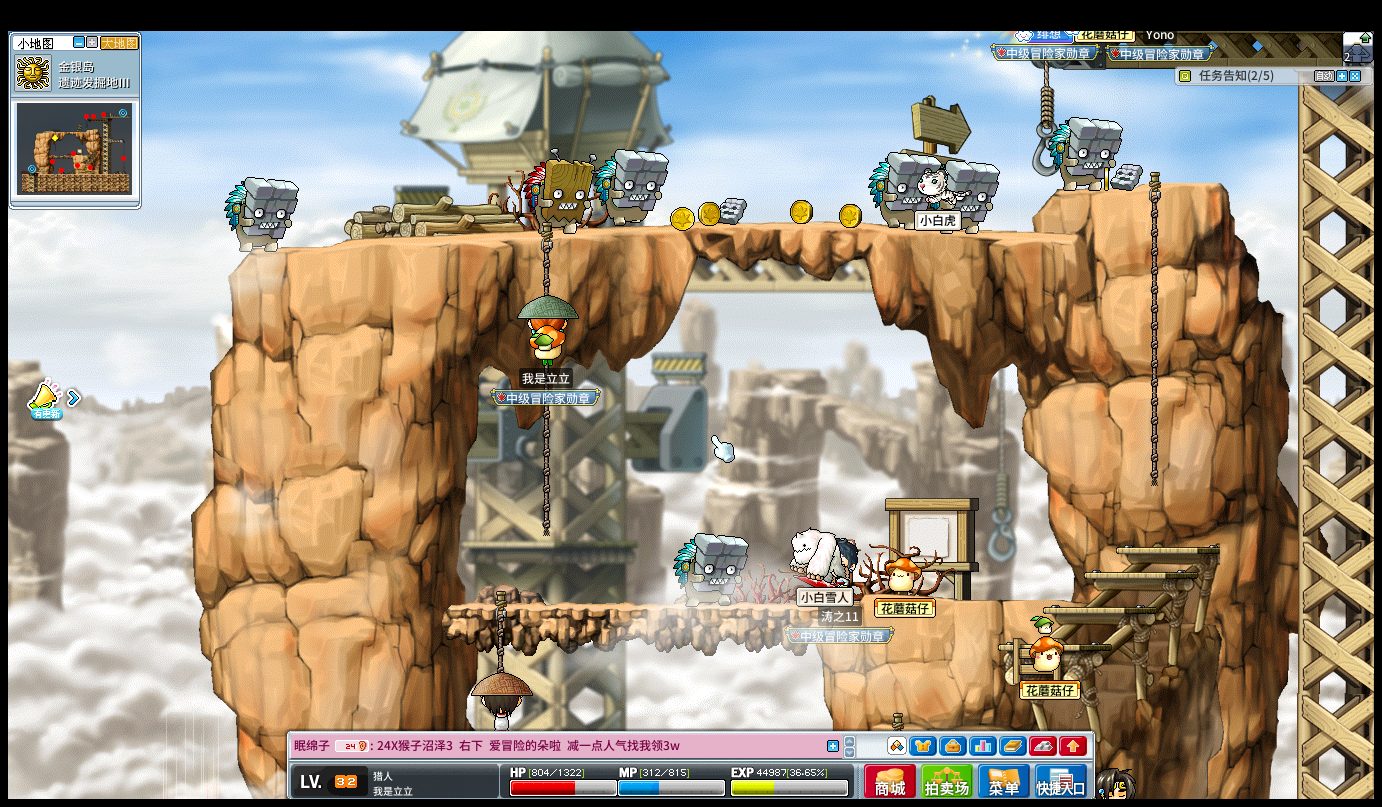floor: (253, 215, 1094, 248), (444, 602, 827, 615), (1051, 181, 1229, 196), (1054, 178, 1229, 193), (995, 641, 1109, 654), (1079, 567, 1196, 579), (939, 596, 1081, 605), (1114, 544, 1220, 555), (1000, 641, 1107, 650)
monster: (522, 151, 596, 233), (223, 175, 300, 253), (595, 147, 669, 228), (673, 532, 749, 607), (1050, 115, 1124, 191), (866, 151, 921, 229), (950, 160, 1001, 232)
rope: (1146, 167, 1160, 491), (538, 407, 549, 532), (491, 592, 505, 671), (1041, 59, 1050, 162), (541, 223, 553, 297)
